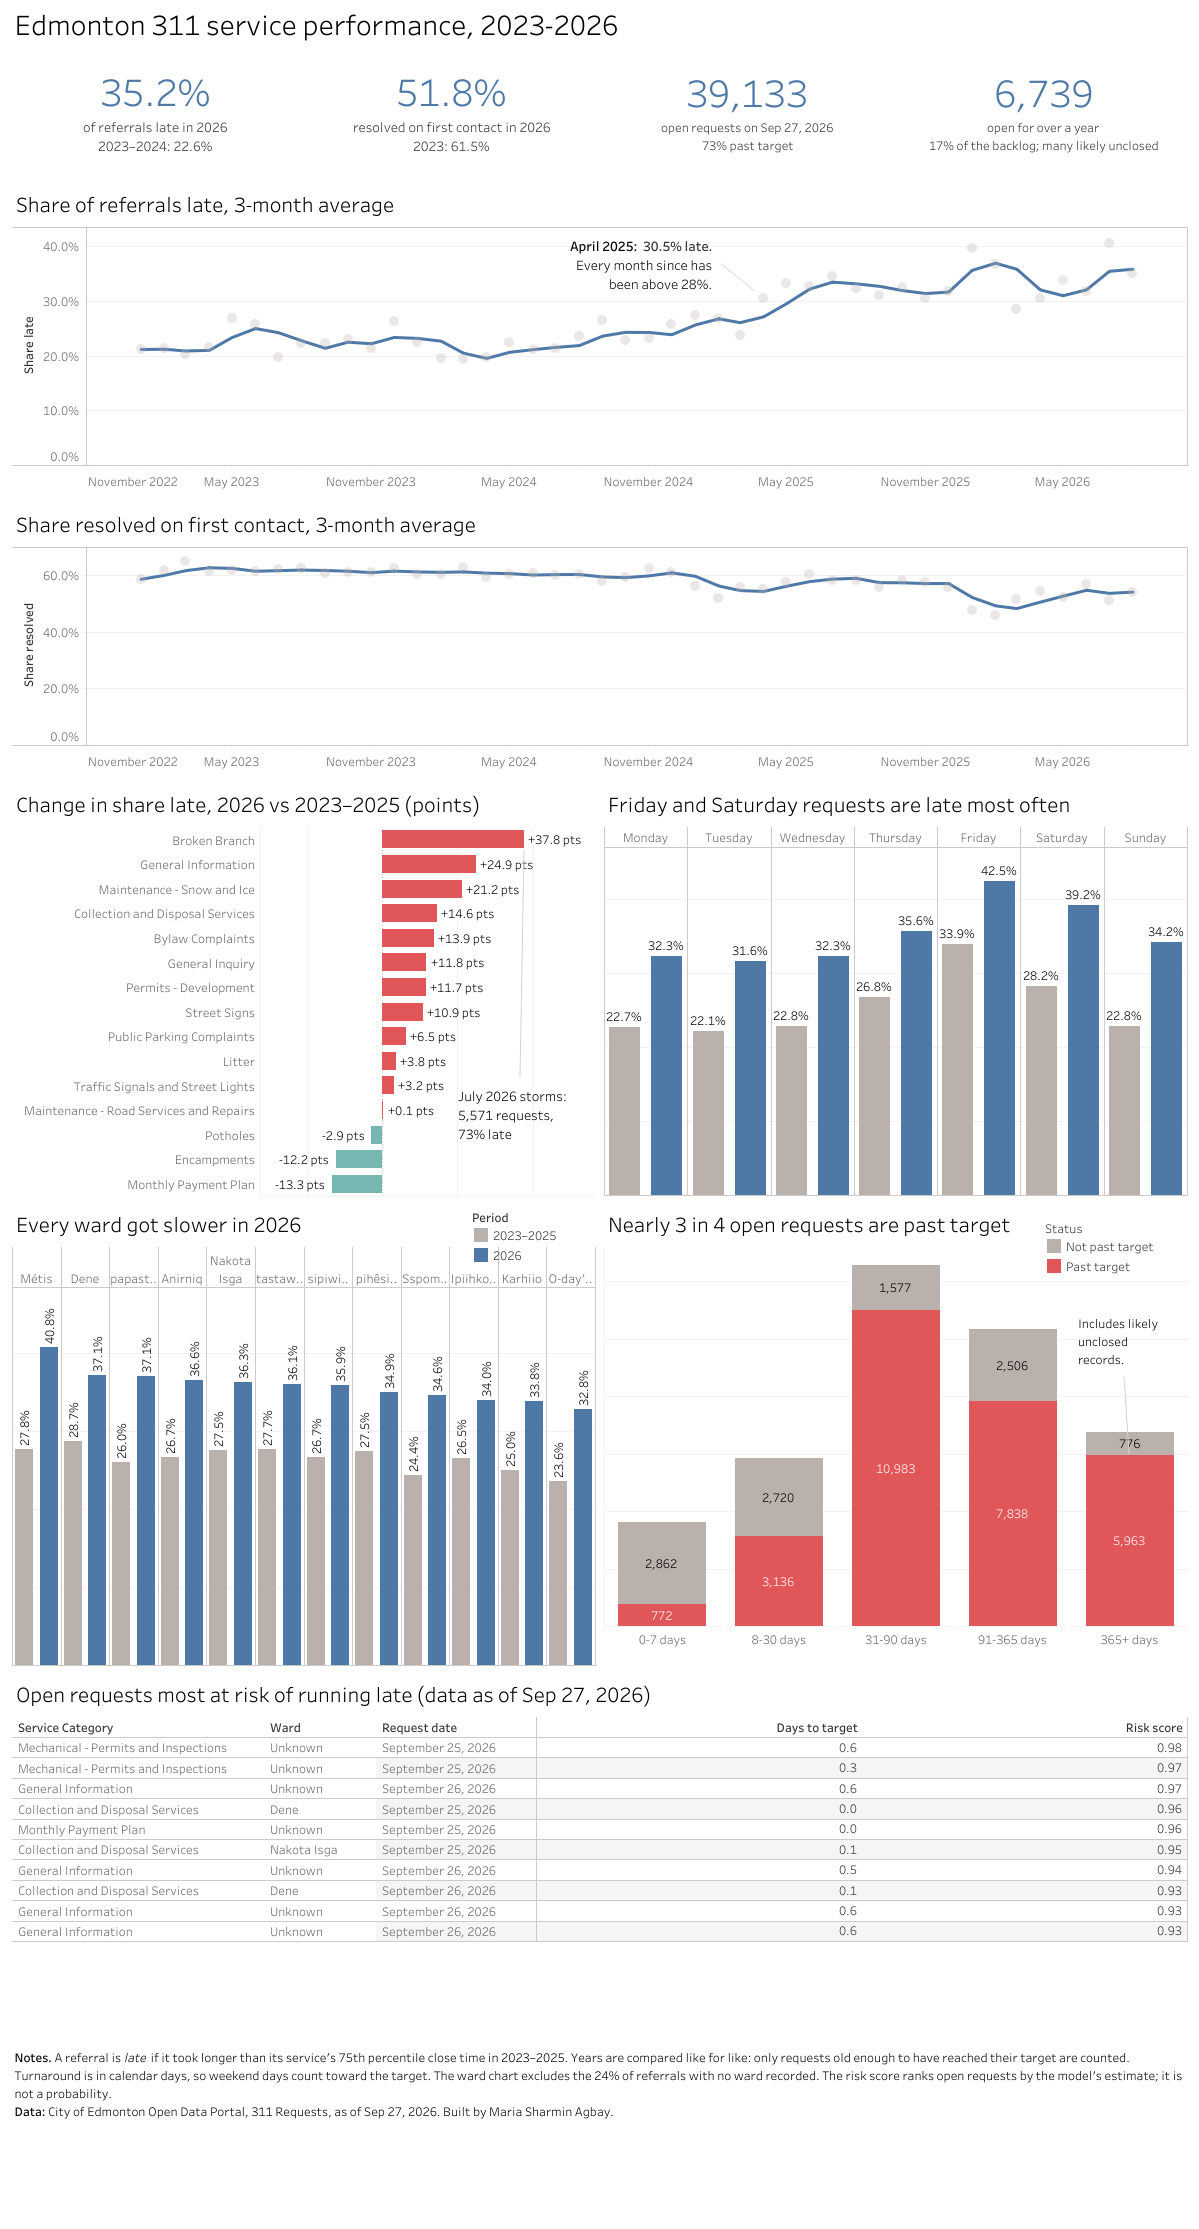

This screenshot's page, from the dashboard's own definition file:
{"tool":"tableau","page":{"name":"Dashboard","canvas":[1200,2230],"ordinal":0},"visuals":[{"type":"text","box":[8,8,1184,32]},{"type":"worksheet","title":"Tile late","mark":"Automatic","box":[8,40,296,140]},{"type":"worksheet","title":"Tile first contact","mark":"Automatic","box":[304,40,296,140]},{"type":"worksheet","title":"Tile open","mark":"Automatic","box":[600,40,296,140]},{"type":"worksheet","title":"Tile stale","mark":"Automatic","box":[896,40,296,140]},{"type":"worksheet","title":"Trend","mark":"Automatic","rows":["Calculation_778841311870431234","Calculation_778841311870345217"],"cols":["created_month"],"box":[8,180,1184,320]},{"type":"worksheet","title":"First contact","mark":"Automatic","rows":["Calculation_778841312215945220","Calculation_778841312213680131"],"cols":["created_month"],"box":[8,500,1184,280]},{"type":"worksheet","title":"Categories","mark":"Bar","rows":["service_category"],"cols":["Calculation_778841312231182341"],"box":[8,780,592,419.7]},{"type":"worksheet","title":"Weekday","mark":"Automatic","rows":["Calculation_1977643238748946432"],"cols":["weekday","Calculation_1977643238749048833"],"box":[600,780,592,419.7]},{"type":"worksheet","title":"Wards","mark":"Bar","cols":["ward"],"box":[8,1200,592,470]},{"type":"worksheet","title":"Backlog","mark":"Bar","cols":["age_bucket"],"box":[600,1200,592,470]},{"type":"legend","title":"Wards","param":"[federated.0r5qgg30o7omdr16w2x4b0ibo4cw].[:Measure Names]","box":[471,1206.1,127,64.3]},{"type":"legend","title":"Backlog","param":"[federated.03qr0lu1v3vj2k0zlgcg60y5vhj0].[:Measure Names]","box":[1044,1217,140,75]},{"type":"worksheet","title":"Risk list","mark":"Automatic","rows":["row_id","service_category","ward","created_at"],"box":[8,1669.6,1184,276.1]},{"type":"text","box":[8,1945.8,1184,276.2]}]}

Visuals, with their boxes in screenshot pixels (x1, y1, x2, y2), scaled from the page's 1200x2230 canvas onto the 1199x2229 screenshot:
text: rect(8, 8, 1191, 40)
"Tile late" worksheet: rect(8, 40, 304, 180)
"Tile first contact" worksheet: rect(304, 40, 600, 180)
"Tile open" worksheet: rect(600, 40, 895, 180)
"Tile stale" worksheet: rect(895, 40, 1191, 180)
"Trend" worksheet: rect(8, 180, 1191, 500)
"First contact" worksheet: rect(8, 500, 1191, 780)
"Categories" worksheet (Bar marks): rect(8, 780, 600, 1199)
"Weekday" worksheet: rect(600, 780, 1191, 1199)
"Wards" worksheet (Bar marks): rect(8, 1199, 600, 1669)
"Backlog" worksheet (Bar marks): rect(600, 1199, 1191, 1669)
"Wards" legend: rect(471, 1206, 598, 1270)
"Backlog" legend: rect(1043, 1216, 1183, 1291)
"Risk list" worksheet: rect(8, 1669, 1191, 1945)
text: rect(8, 1945, 1191, 2221)
